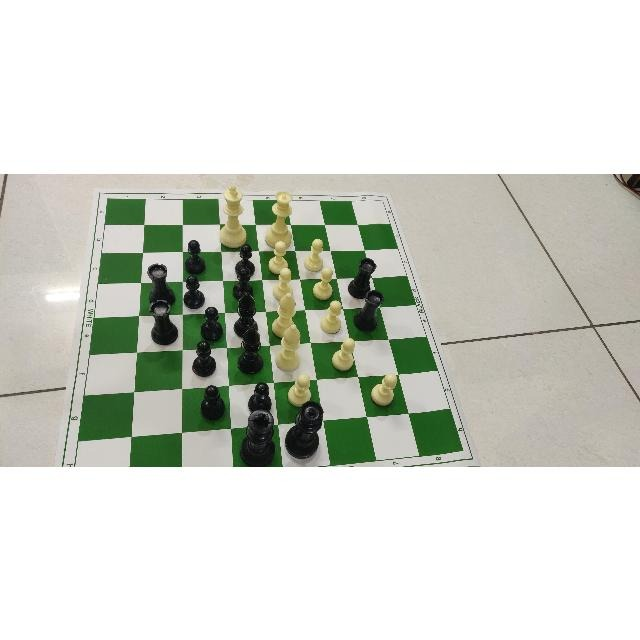black-bishop: (238, 324, 263, 373), (233, 291, 258, 336)
black-king: (240, 408, 275, 465)
black-pawn: (199, 381, 225, 422), (190, 341, 216, 379), (181, 238, 206, 269), (183, 272, 207, 304), (250, 381, 276, 406), (204, 306, 222, 340), (237, 242, 256, 265), (238, 264, 252, 288)
black-queen: (284, 401, 323, 459)
black-rook: (150, 298, 178, 343), (146, 263, 175, 305), (354, 292, 384, 332), (349, 258, 377, 298)
white-bishop: (277, 323, 301, 370), (272, 292, 296, 338)
white-king: (218, 184, 247, 247)
white-pawn: (370, 367, 400, 408), (331, 335, 356, 373), (321, 296, 343, 332), (290, 371, 318, 399), (312, 267, 337, 296), (305, 235, 325, 265), (271, 266, 293, 290), (272, 240, 292, 265)
white-queen: (264, 191, 292, 249)
